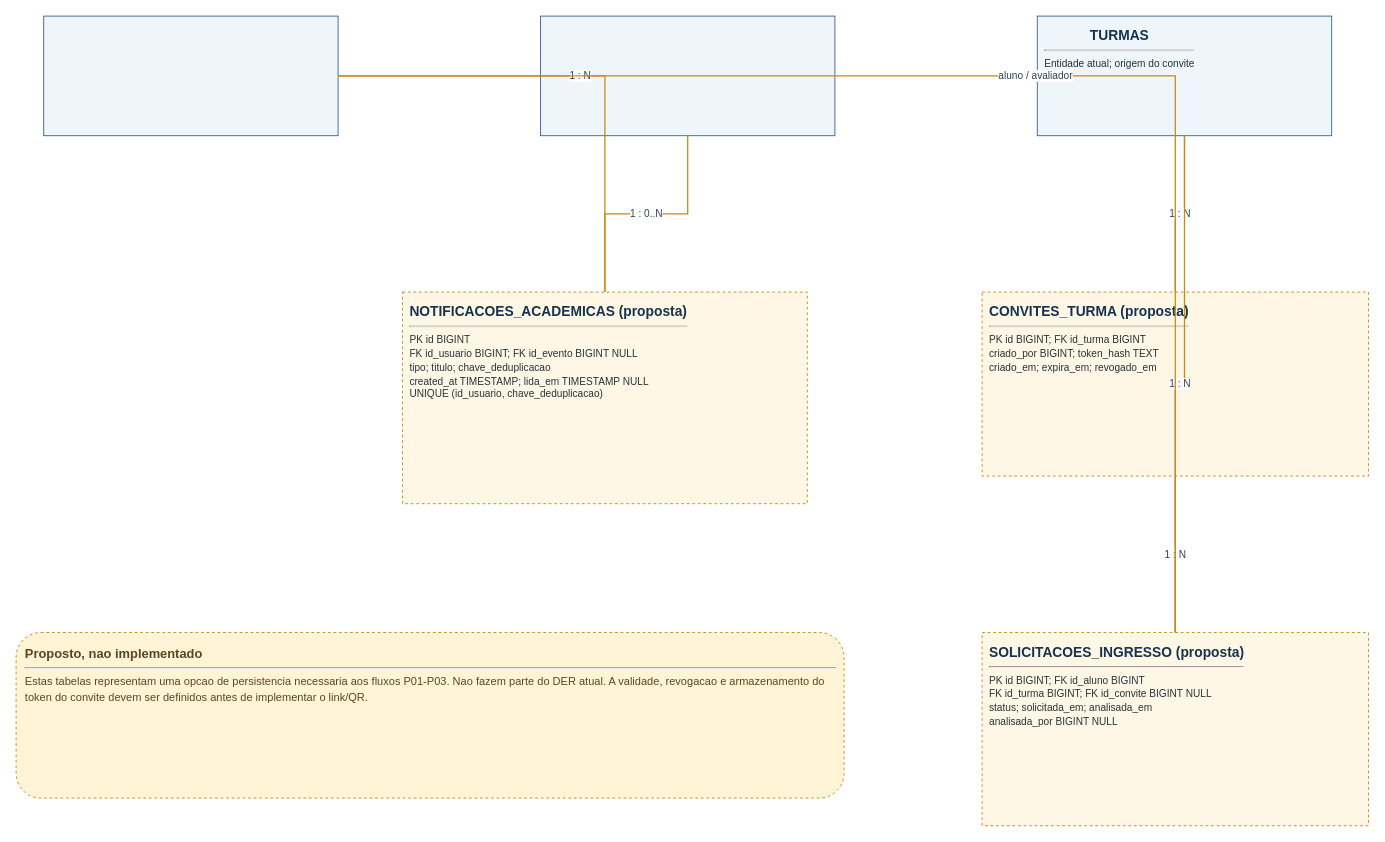
Some shapes in this 1385 by 842 pixel diagram are drawn without their labels. Here are the shapes that lost their labels. From the top down, the box of each, then its label:
(43, 15, 338, 136): USUARIOS / ALUNOS Entidades atuais; referencia do destinatario
(540, 15, 835, 136): EVENTOS Entidade atual; fonte dos avisos
